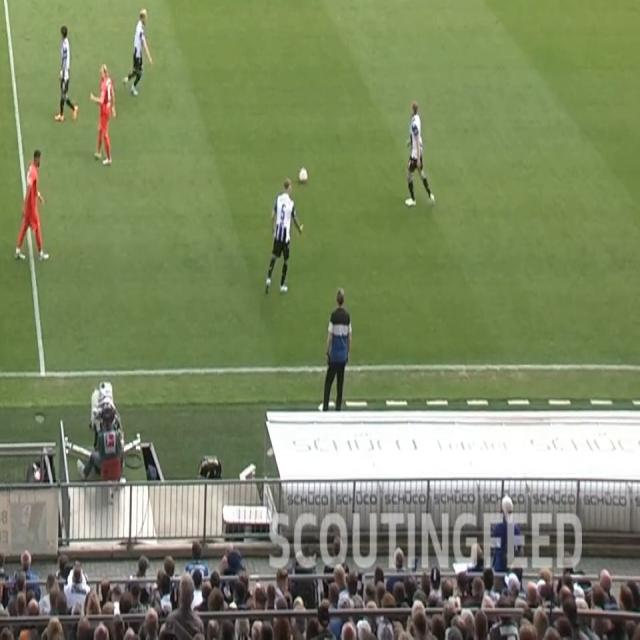ball: (297, 165, 309, 184)
